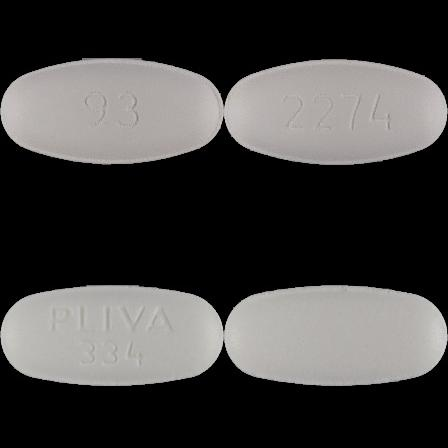63187-032: (0, 0, 224, 224)
